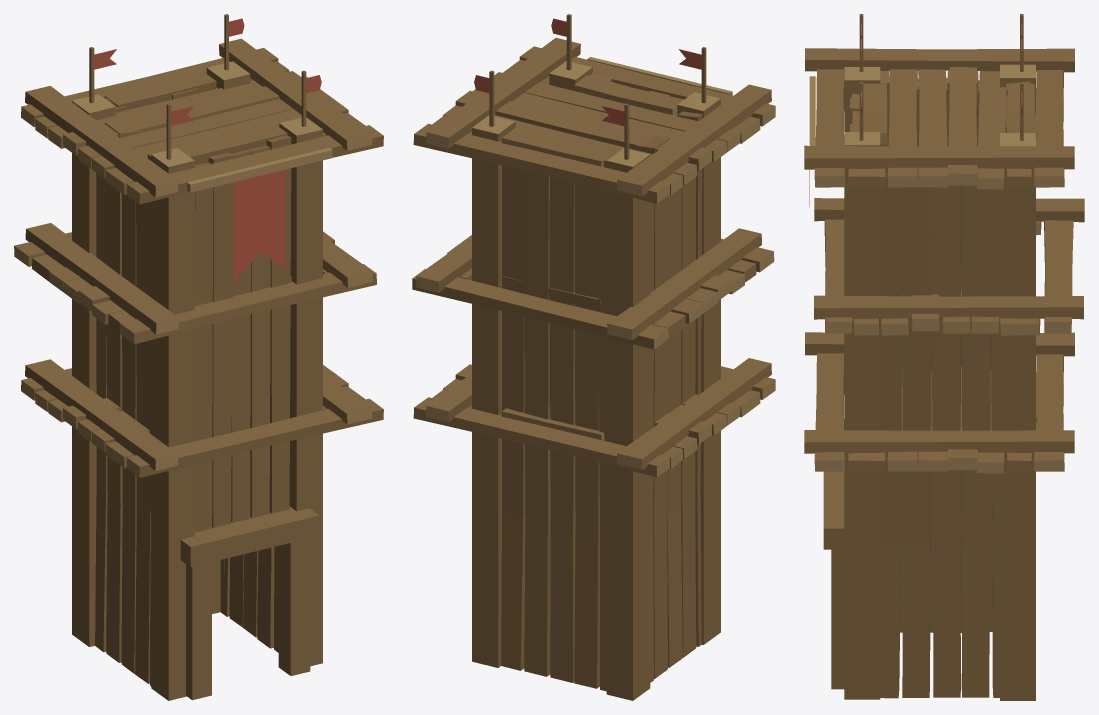
Rendered from WatchTower_FirstAge_Level3.glb.
3 views of the same model, side by side, from view 1: azimuth 30°, elevation 25°; view 2: azimuth 150°, elevation 25°; view 3: azimuth 270°, elevation 25° (orthographic). The views are drawn at different scales.
Visible parts, largest first — view 1: WatchTower_FirstAge_Level3; view 2: WatchTower_FirstAge_Level3; view 3: WatchTower_FirstAge_Level3.
Boxes of the visible parts, box(x1,y1,x2,y2) form: WatchTower_FirstAge_Level3: box(14, 14, 383, 700); WatchTower_FirstAge_Level3: box(412, 14, 775, 700); WatchTower_FirstAge_Level3: box(804, 14, 1084, 700).
Bounding box in the file's own units: 0.7123 × 1.64 × 0.6795.
